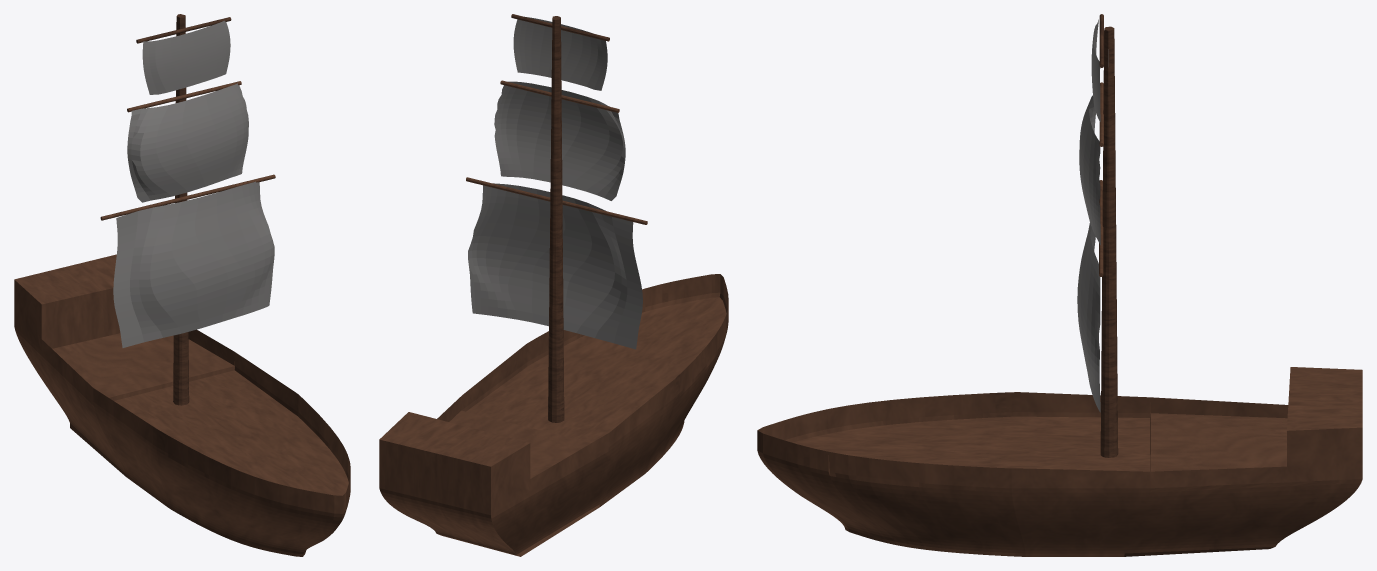
Rendered from ship.fbx.
3 views of the same model, side by side, from view 1: azimuth 30°, elevation 25°; view 2: azimuth 150°, elevation 25°; view 3: azimuth 270°, elevation 25° (orthographic). The views are drawn at different scales.
Visible parts, largest first — view 1: Body.004; view 2: Body.004; view 3: Body.004.
Boxes of the visible parts, bbox=[...] form: Body.004: bbox=[14, 14, 350, 556]; Body.004: bbox=[379, 14, 728, 556]; Body.004: bbox=[757, 14, 1362, 556].
Size of the model in its own units: 1000 by 2517 by 2747.
